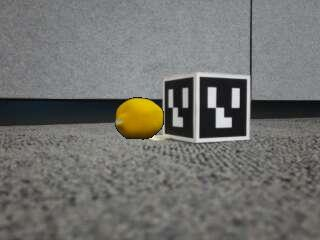lemon: (116, 98, 164, 139)
